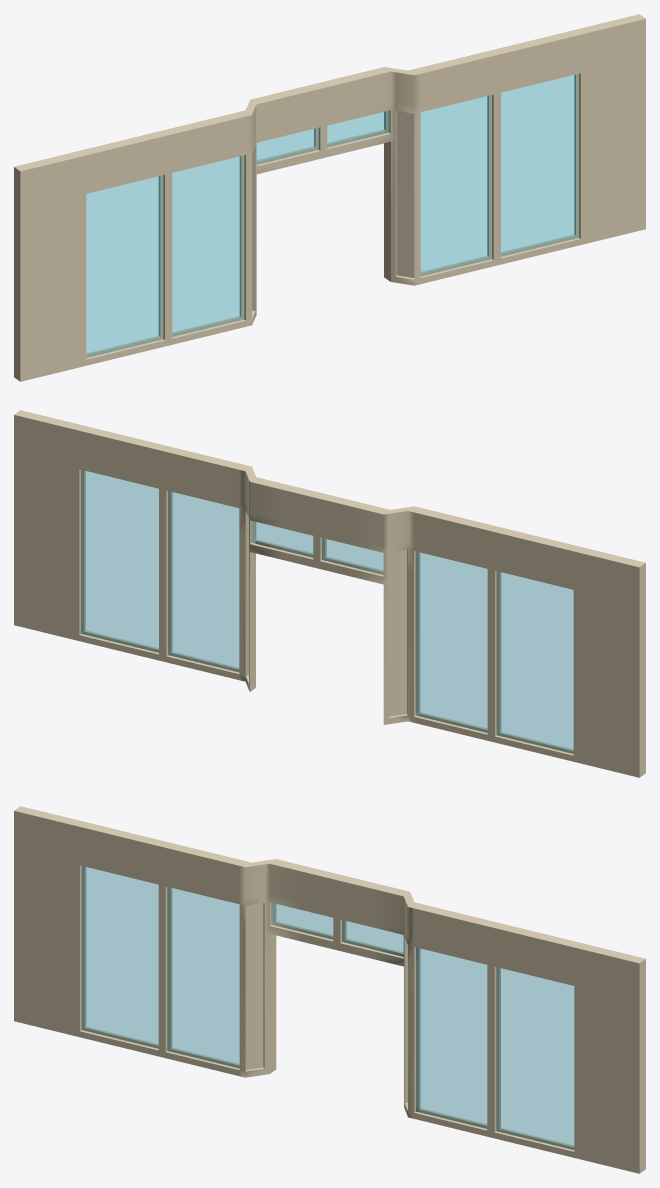
File: wallfront.fbx
3 renders of one model, top to bottom at view 1: azimuth 30°, elevation 25°; view 2: azimuth 150°, elevation 25°; view 3: azimuth 330°, elevation 25°, orthographic.
Parts seen in each view (by area): view 1: Front_Wall2; view 2: Front_Wall2; view 3: Front_Wall2.
Part boxes in pixels (x1,y1,x2,y2): Front_Wall2: (14, 14, 645, 381); Front_Wall2: (14, 410, 645, 777); Front_Wall2: (14, 806, 645, 1173).
Size of the model in its own units: 28 by 9 by 1.25.
